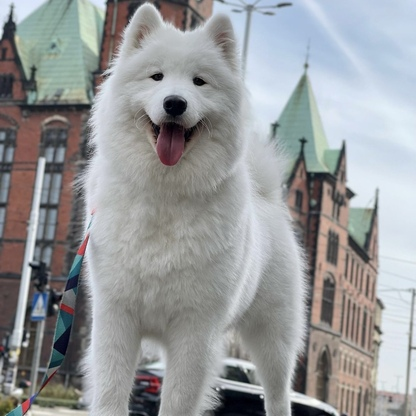samoyed: (76, 2, 319, 416)
